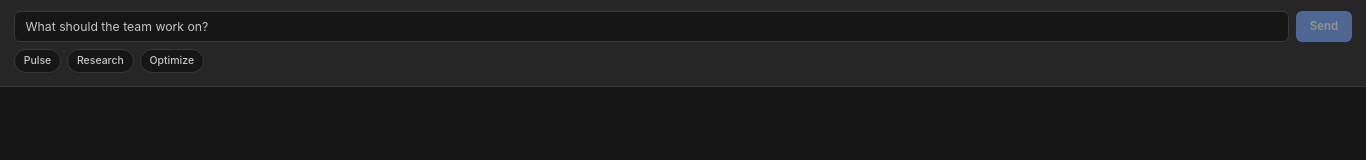
Test: ChatBar — action chips › clicking a team chip prefixes the input and focuses it
Click the button with test id "action-chip-pulse": click(38, 61) [14,48,61,73]
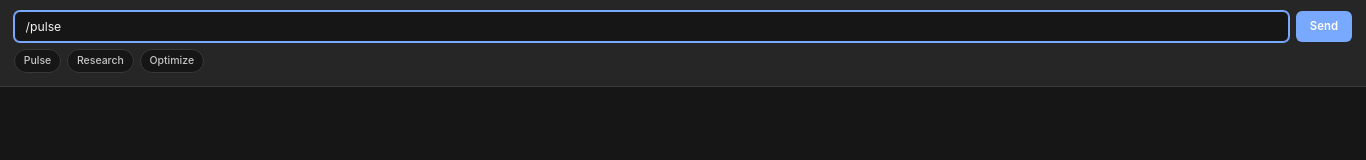
Result: the field with test id "chat-input" holds "/pulse " at [14,10,1289,42]
Click the button with test id "action-chip-research": click(100, 61) [67,48,134,73]
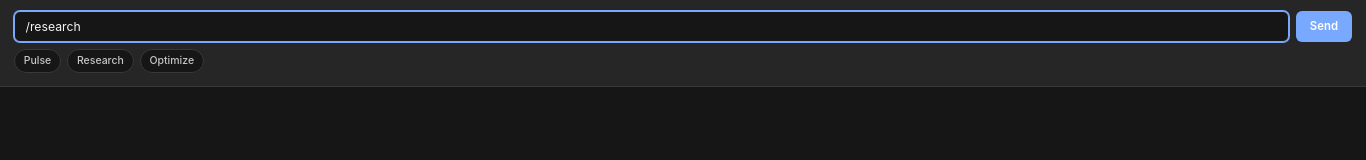
Result: the field with test id "chat-input" holds "/research " at [14,10,1289,42]
